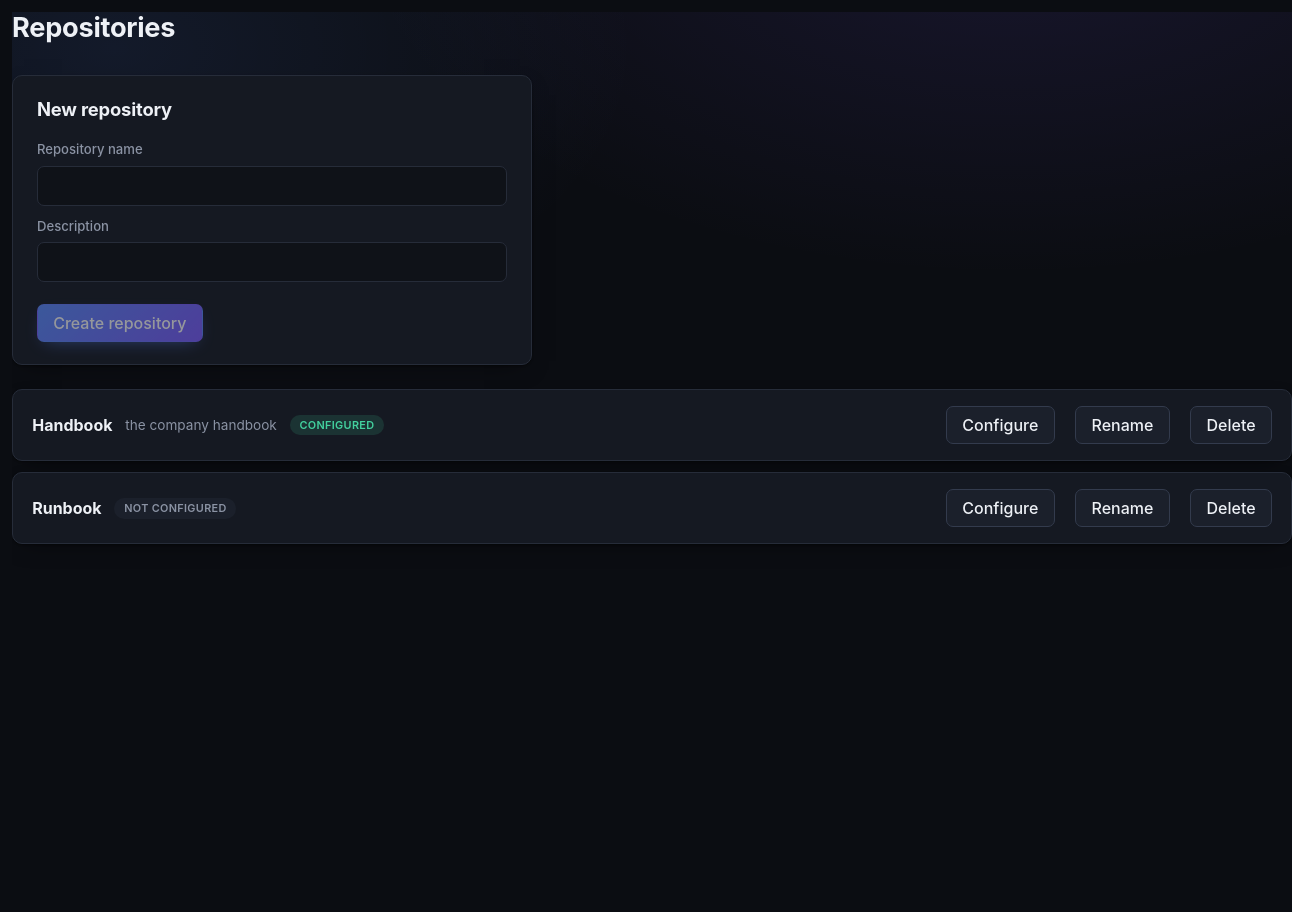
it: AdminRepositoriesPage › tells the admin to set up a provider when none is verified
The image size is (1292, 912).
Click the button "Configure" in the row of "Not configured": (1000, 508) left=946, top=489, right=1055, bottom=527
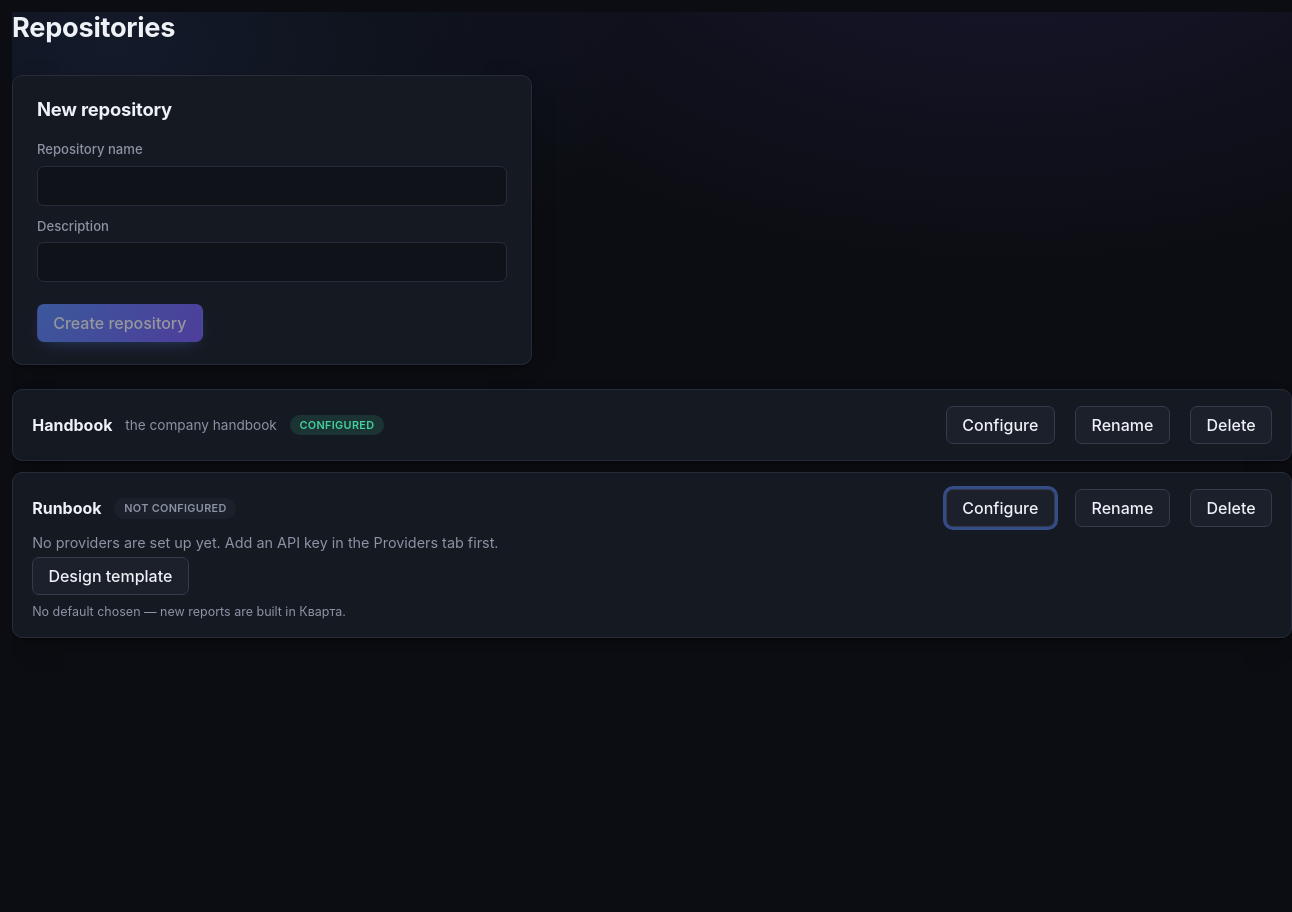
Now the text "Providers tab" is shown, box left=32, top=534, right=498, bottom=551
